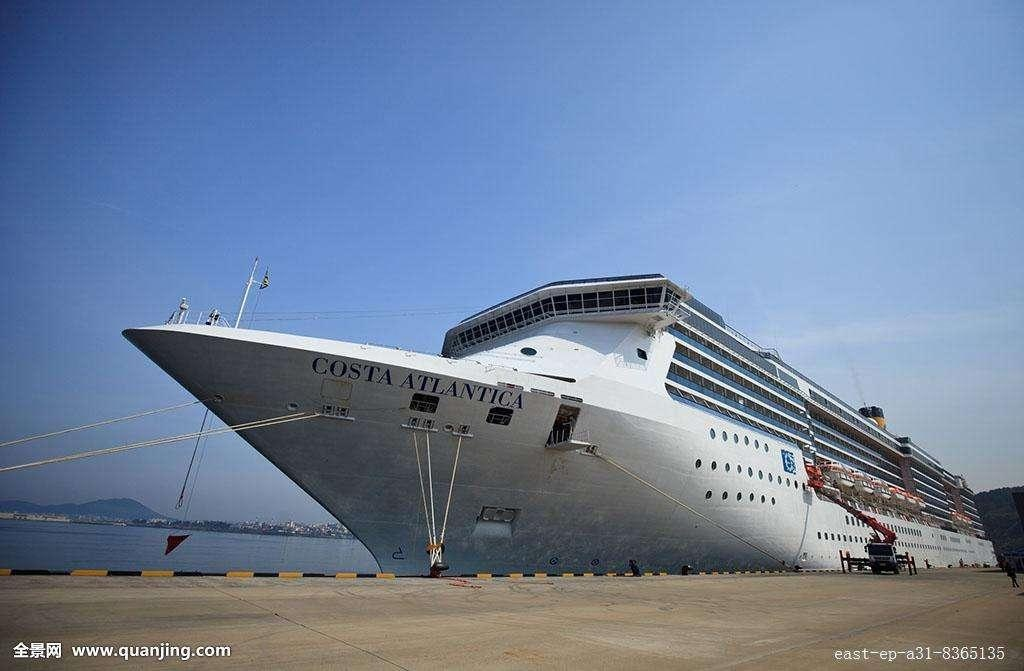youlun: (109, 270, 1021, 568)
